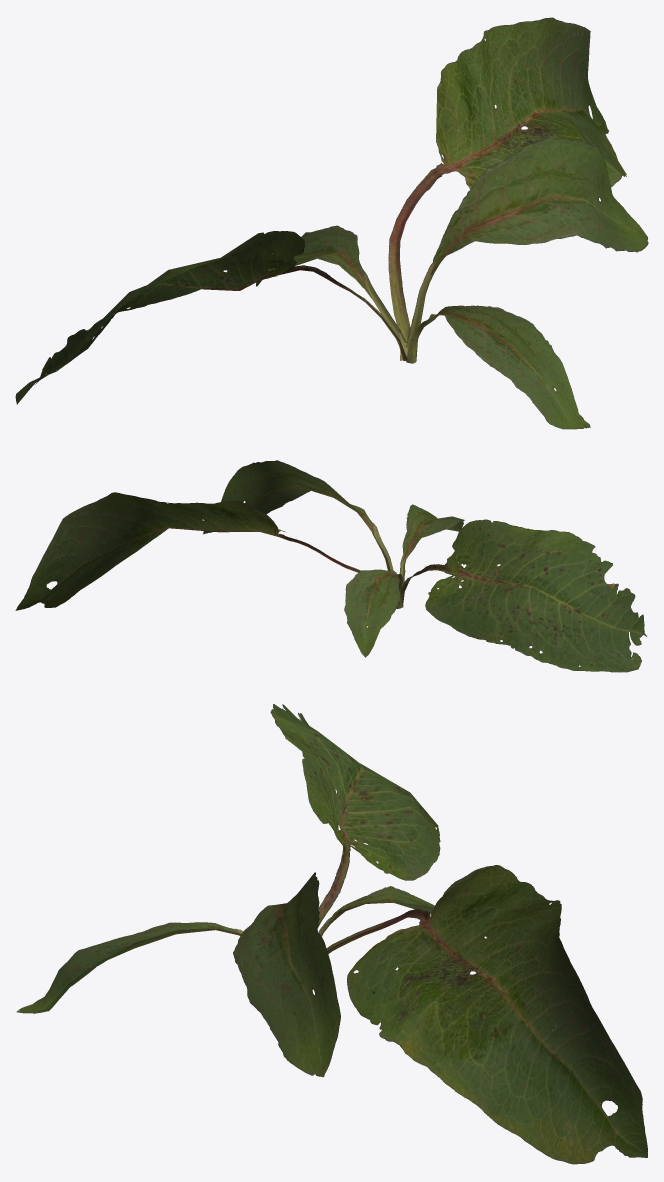
The model's file is weed_plant_02_d_LOD1.glb.
The picture shows the model from 3 angles, top to bottom: view 1: azimuth 30°, elevation 25°; view 2: azimuth 150°, elevation 25°; view 3: azimuth 270°, elevation 25°; orthographic projection. The views are drawn at different scales.
Parts seen in each view (by area): view 1: weed_plant_02_d_LOD1__lod0; view 2: weed_plant_02_d_LOD1__lod0; view 3: weed_plant_02_d_LOD1__lod0.
Part boxes in pixels (bbox=[...]): weed_plant_02_d_LOD1__lod0: bbox=[15, 17, 648, 429]; weed_plant_02_d_LOD1__lod0: bbox=[15, 460, 647, 672]; weed_plant_02_d_LOD1__lod0: bbox=[16, 704, 647, 1164].
Size of what is drawn, in the model's own units: 0.1539 by 0.0385 by 0.108.
1 material, 1 textured.
